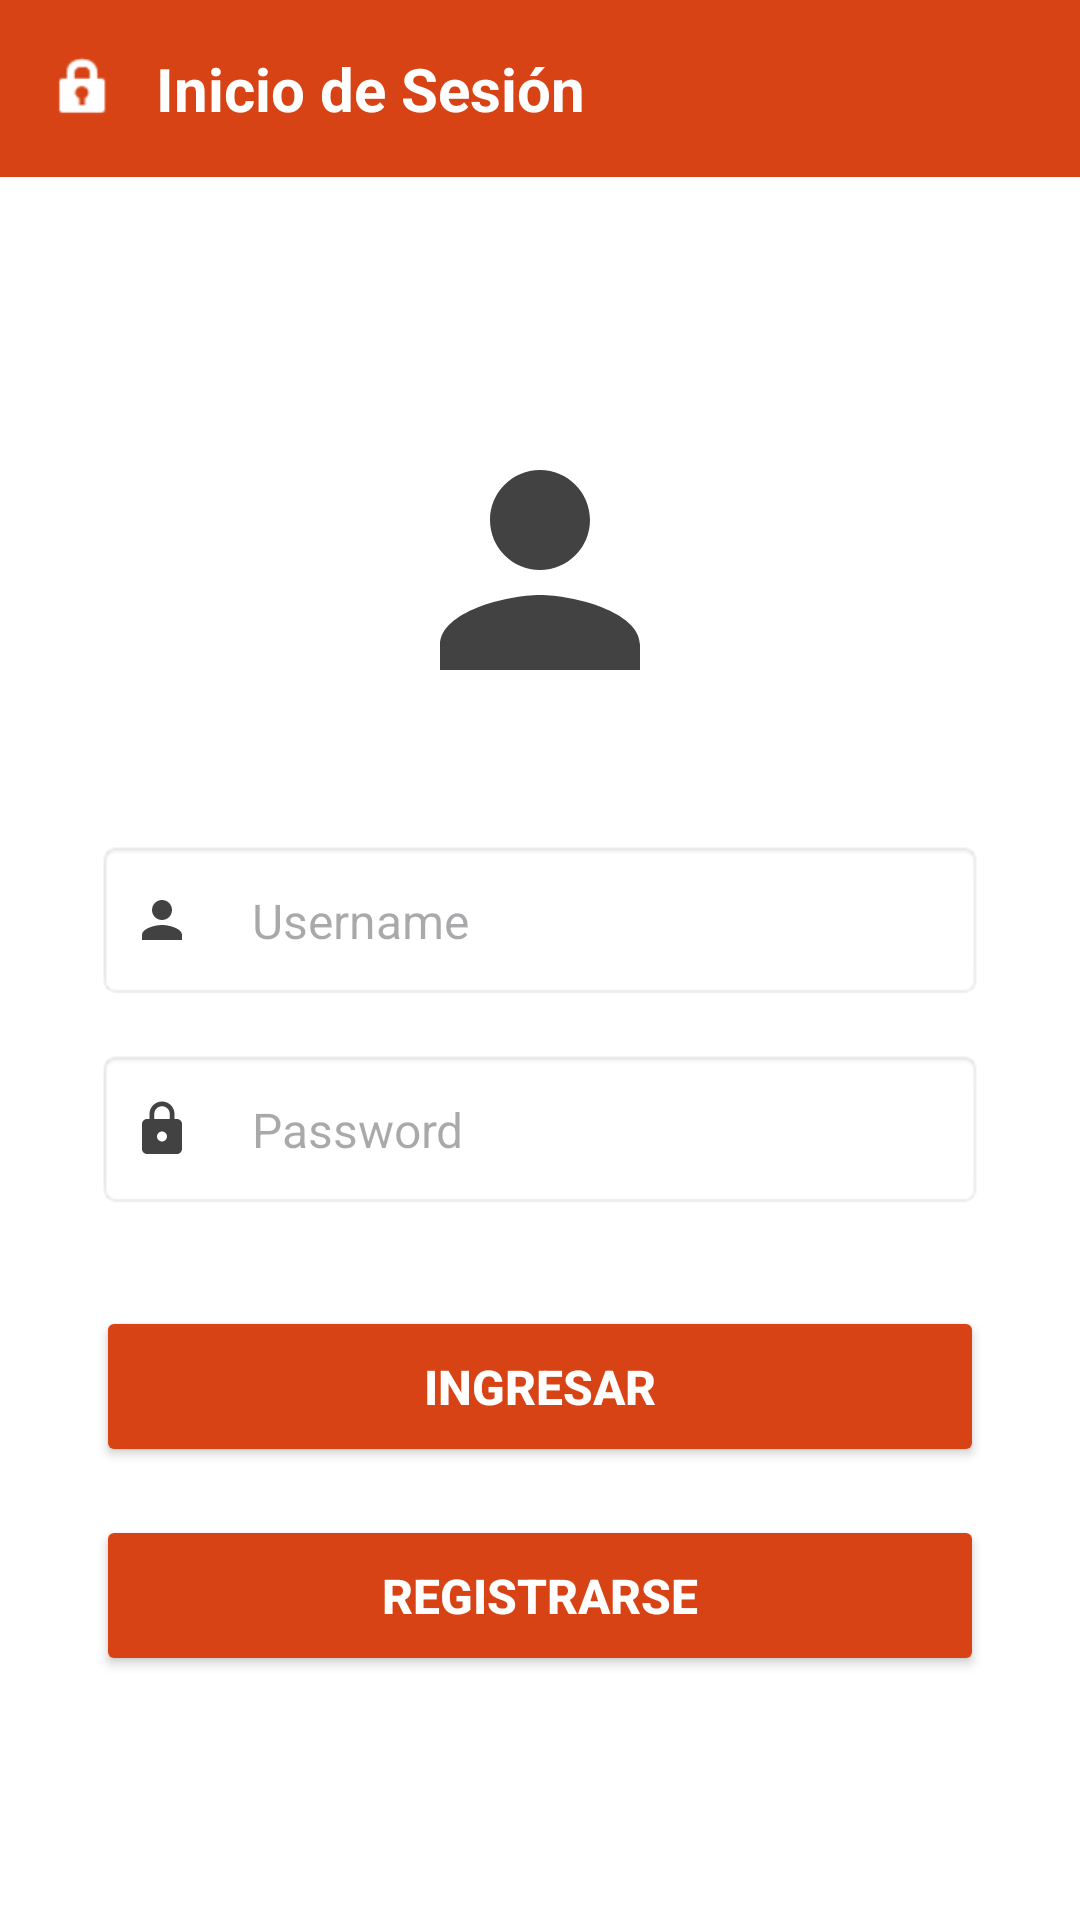

Screen size 1080px×1920px. Icon name, then its box in pixels as (left=x1, top=y1, right=x2, bottom=y2):
Usuario: (left=440, top=470, right=640, bottom=670)
